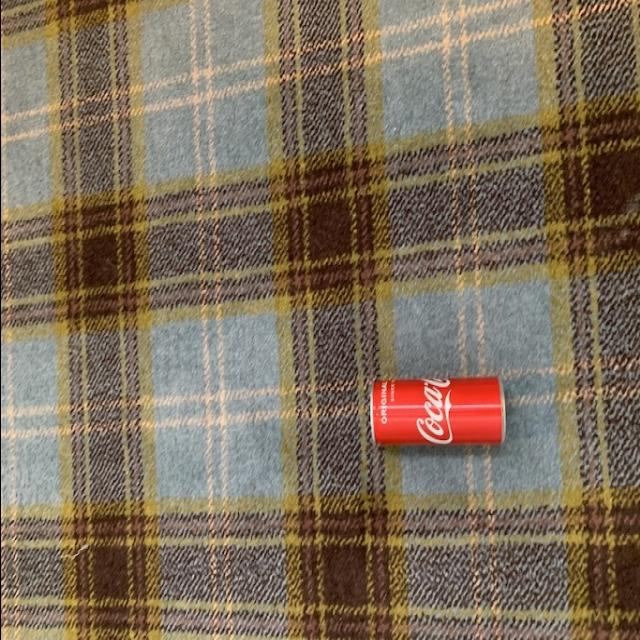litter: (366, 368, 510, 452)
